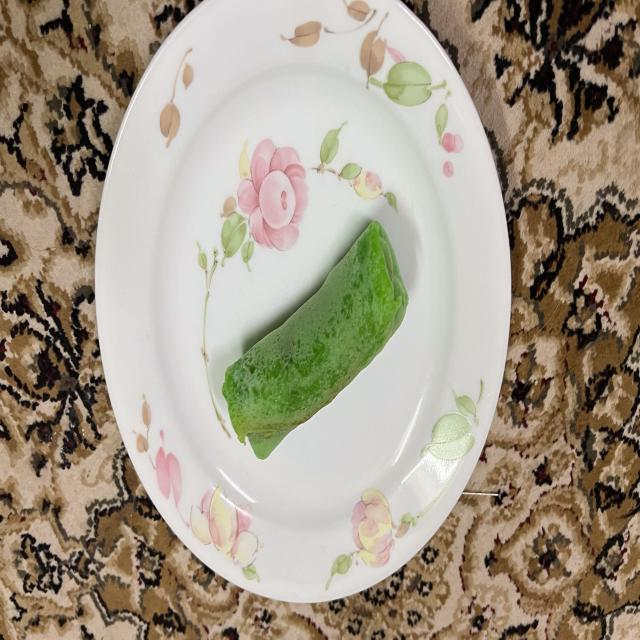Kuih-Ketayap: (222, 222, 409, 460)
